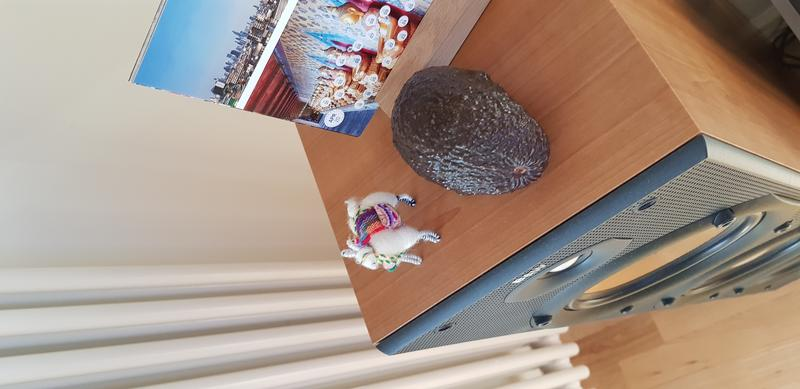Avocado: (383, 62, 558, 197)
Horse-Toy: (326, 185, 441, 287)
